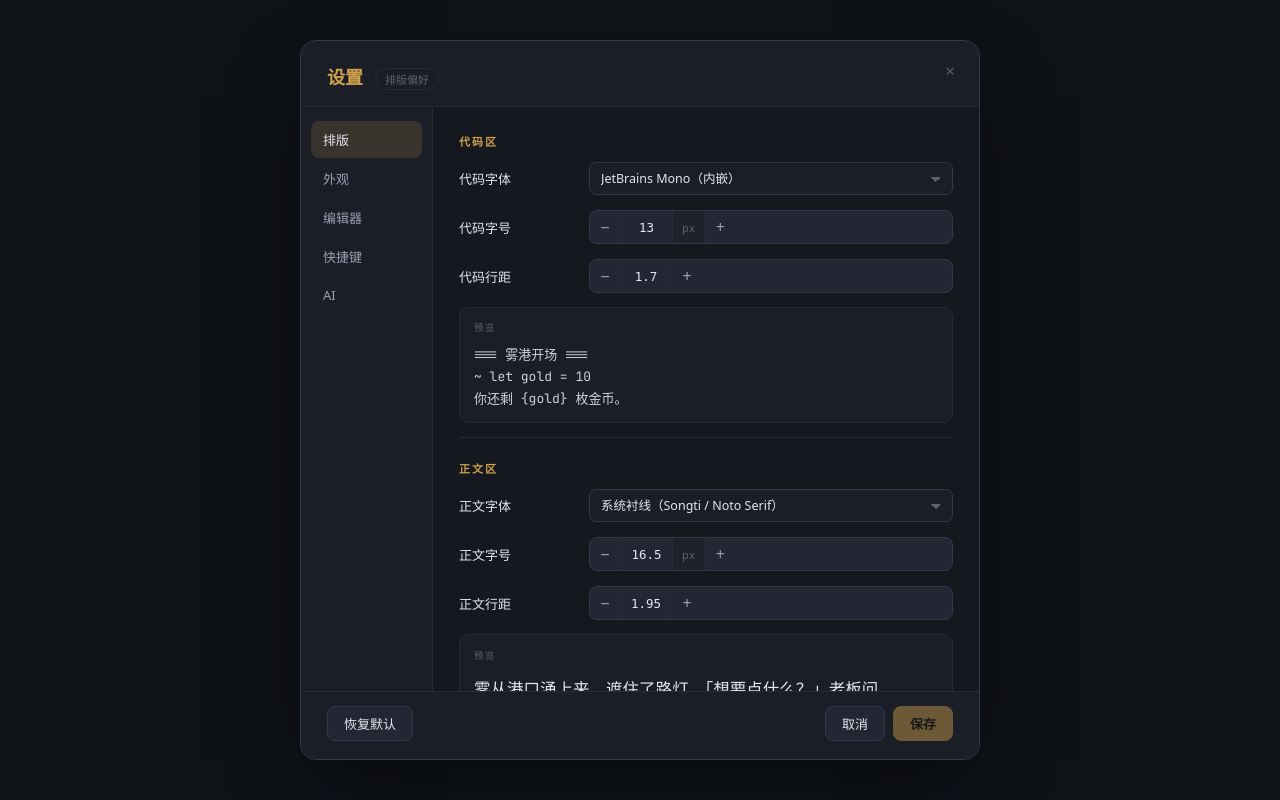
SettingsDialog › 切主题（外观预设）→ 实时预览（写 data-theme）+ 草稿变（保存启用）
Click the tab "外观".
click(366, 178)  # box [311,160,422,197]
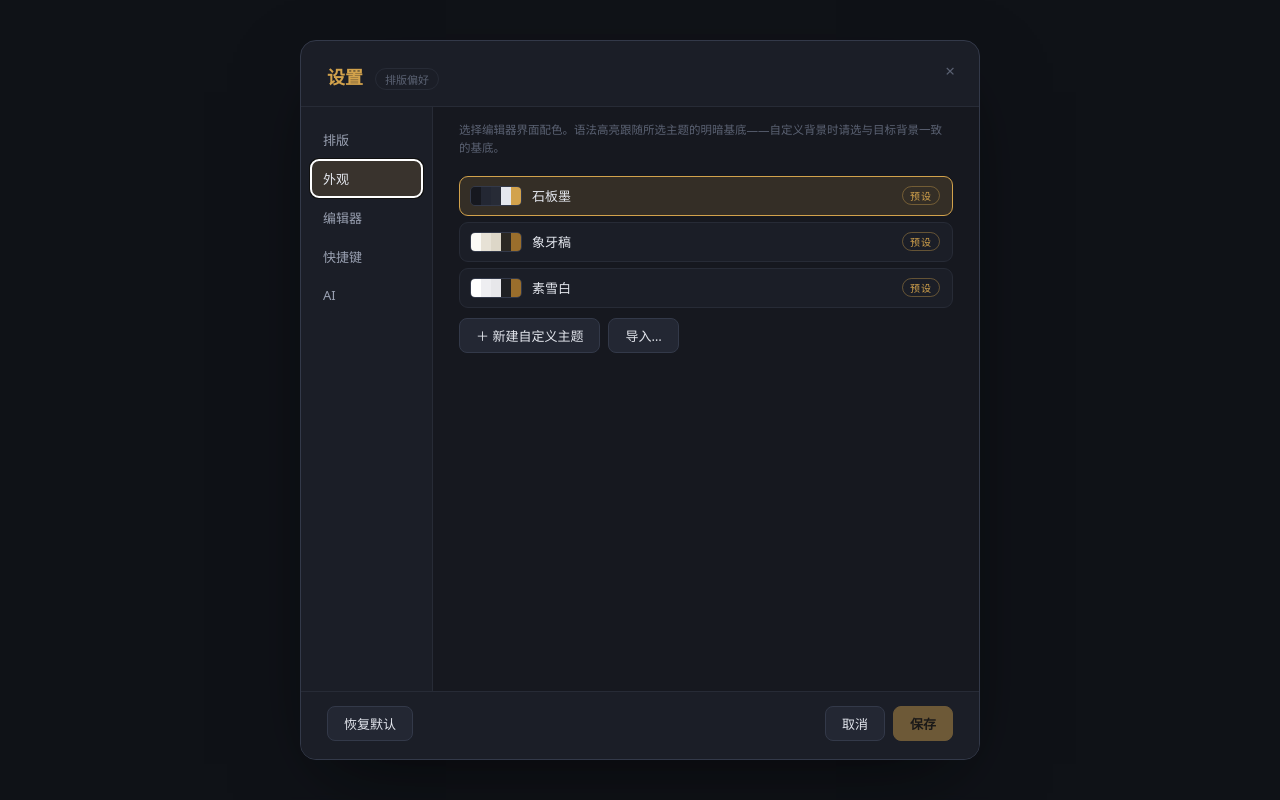
Click the radio button labelled "象牙稿 预设".
click(496, 242)  # box [464,227,946,257]
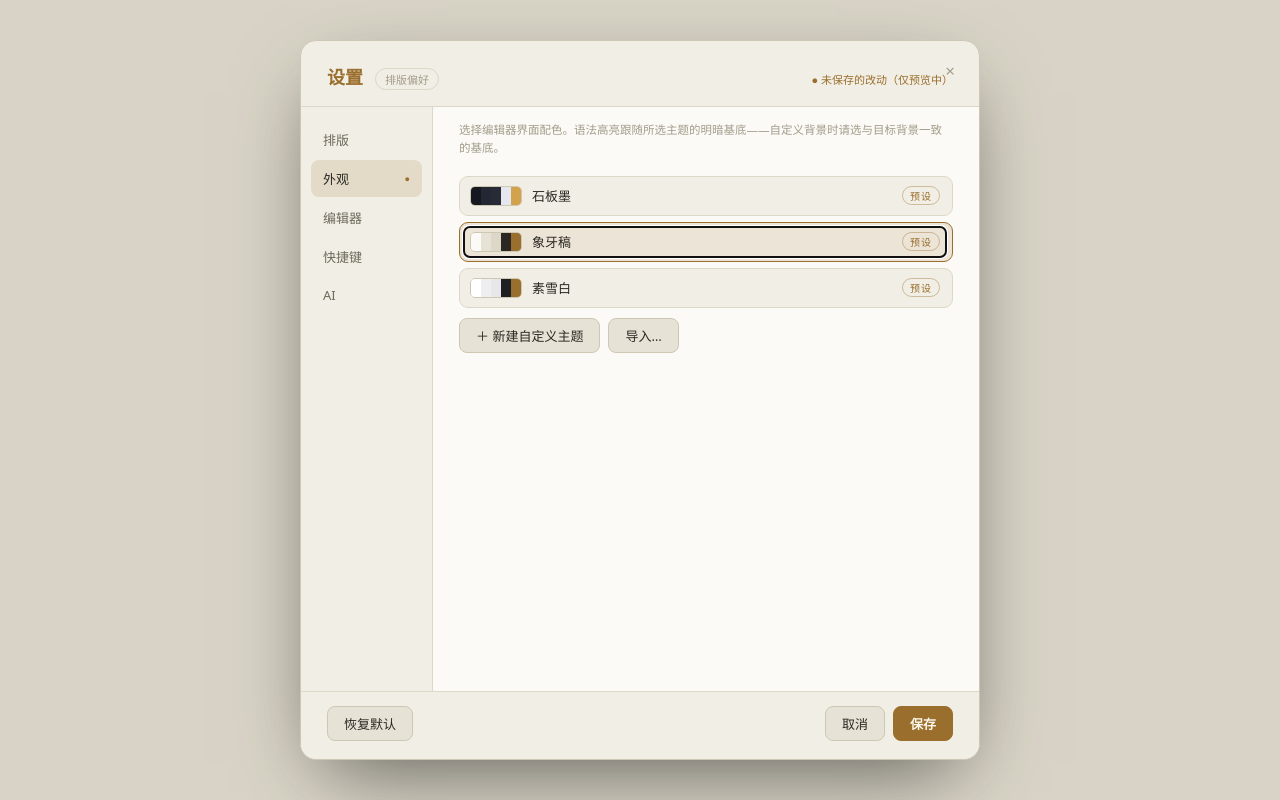
Now the button "保存" is enabled, box [893,706,953,741]
